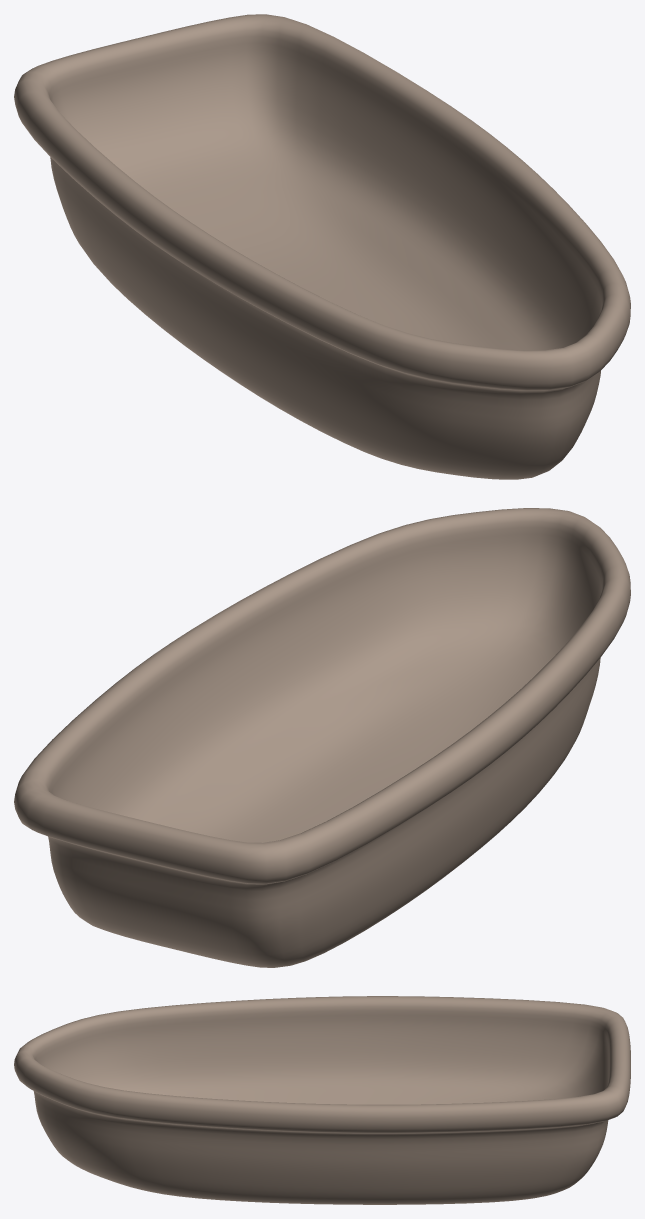
Rendered from Boat FBX.fbx.
3 views of the same model, one above another, from view 1: azimuth 30°, elevation 25°; view 2: azimuth 150°, elevation 25°; view 3: azimuth 270°, elevation 25° (orthographic). The views are drawn at different scales.
Visible parts, largest first — view 1: pCube1; view 2: pCube1; view 3: pCube1.
Part boxes in pixels (box(x1,y1,x2,y2)): pCube1: box(14, 14, 630, 479); pCube1: box(14, 508, 630, 967); pCube1: box(14, 996, 630, 1204).
Bounding box in the file's own units: 2.04 × 0.9484 × 4.5.
